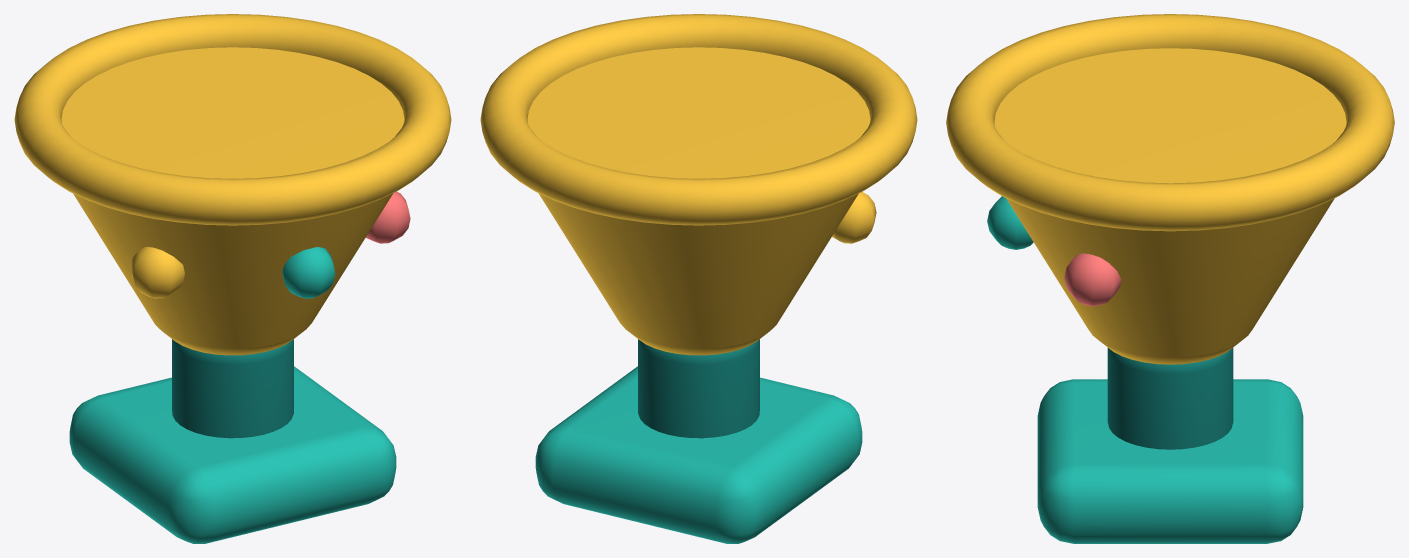
File: BreedingPort.fbx
3 views of the same model, side by side, from view 1: azimuth 30°, elevation 25°; view 2: azimuth 150°, elevation 25°; view 3: azimuth 270°, elevation 25° (orthographic). The views are drawn at different scales.
Parts seen in each view (by area): view 1: BreedingPort mesh; view 2: BreedingPort mesh; view 3: BreedingPort mesh.
Boxes of the visible parts, left/top/right/bottom form: BreedingPort mesh: left=14, top=14, right=451, bottom=543; BreedingPort mesh: left=480, top=14, right=917, bottom=543; BreedingPort mesh: left=946, top=14, right=1394, bottom=543.
Bounding box in the file's own units: 0.186 × 0.1825 × 0.186.
